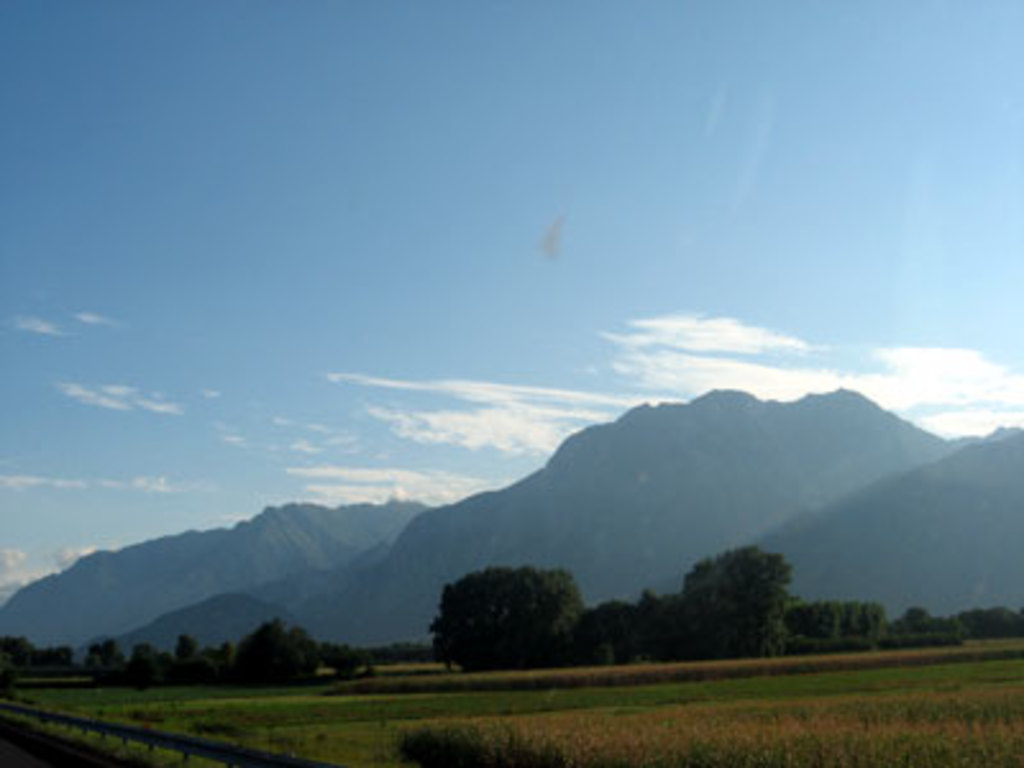Tree: (601, 535, 1021, 652), (414, 565, 604, 670), (227, 606, 322, 691), (322, 627, 409, 673), (0, 632, 74, 683), (122, 639, 171, 691), (181, 634, 215, 686), (74, 634, 117, 675)
